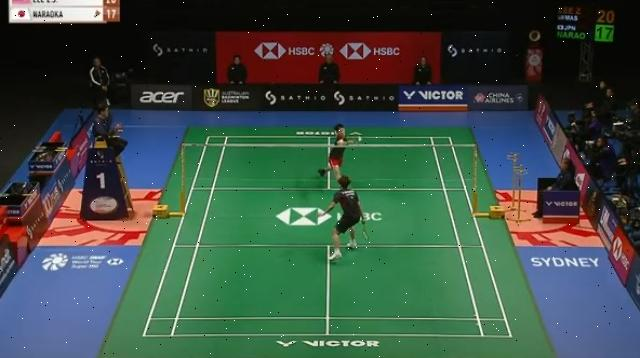Shuttlecock: (356, 134, 364, 144)
